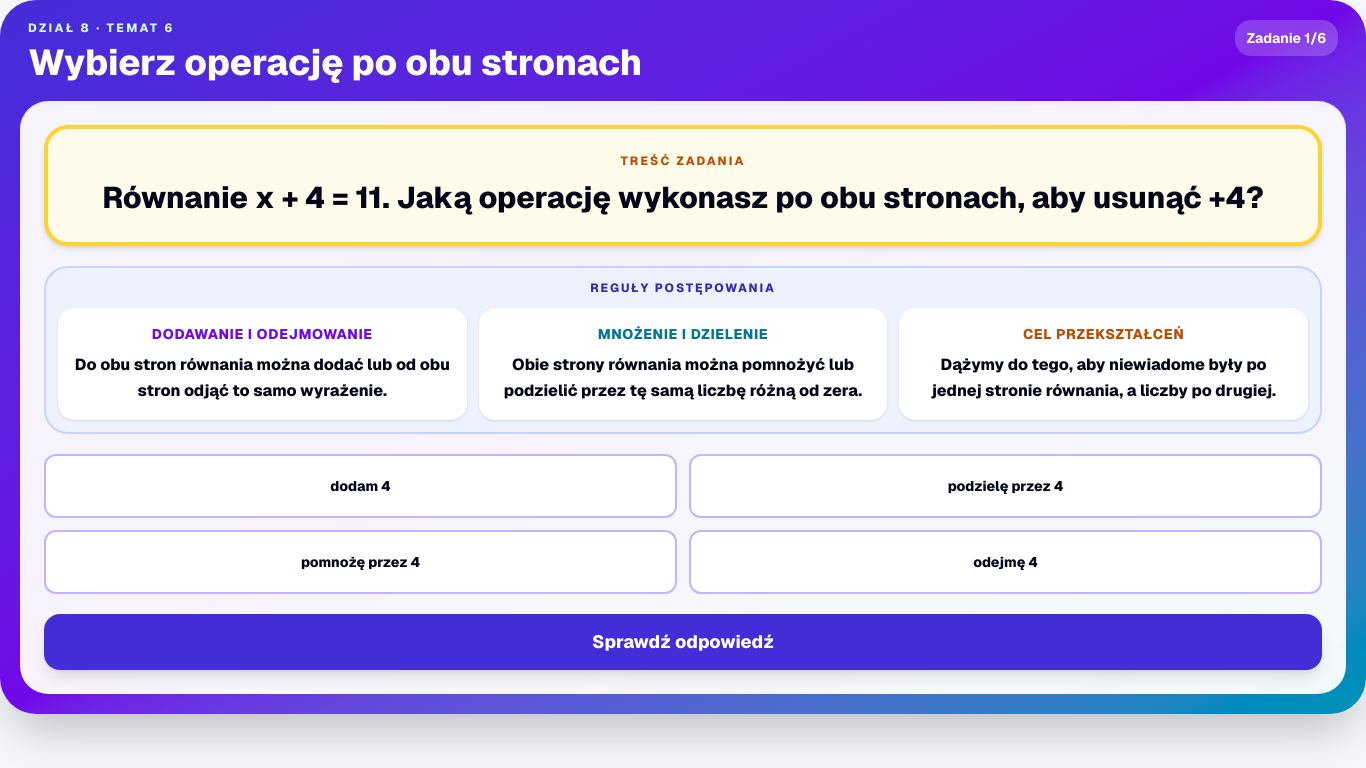
Scenario: AlgebraLessonLab › pozwala wybrać operację wykonywaną po obu stronach równania
The width and height of the screenshot is (1366, 768).
Expected: the heading "Wybierz operację po obu stronach" is shown, x1=28 y1=40 x2=642 y2=85
Expected: the text "Jaką operację wykonasz po obu stronach" is shown, x1=102 y1=178 x2=1264 y2=217
Click the button "odejmę 4".
click(1006, 562)  # box x1=689 y1=530 x2=1322 y2=594
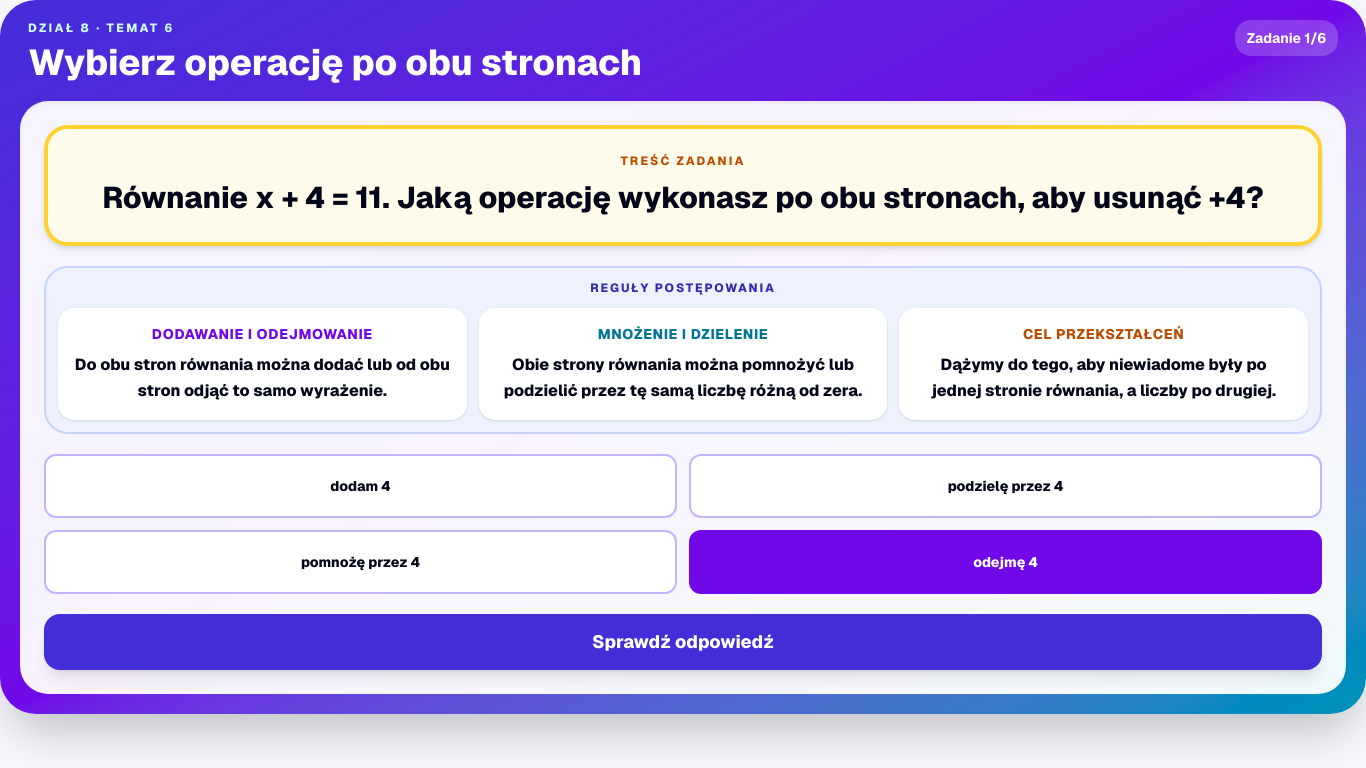
Click the button "Sprawdź odpowiedź".
click(683, 642)  # box x1=44 y1=614 x2=1322 y2=670
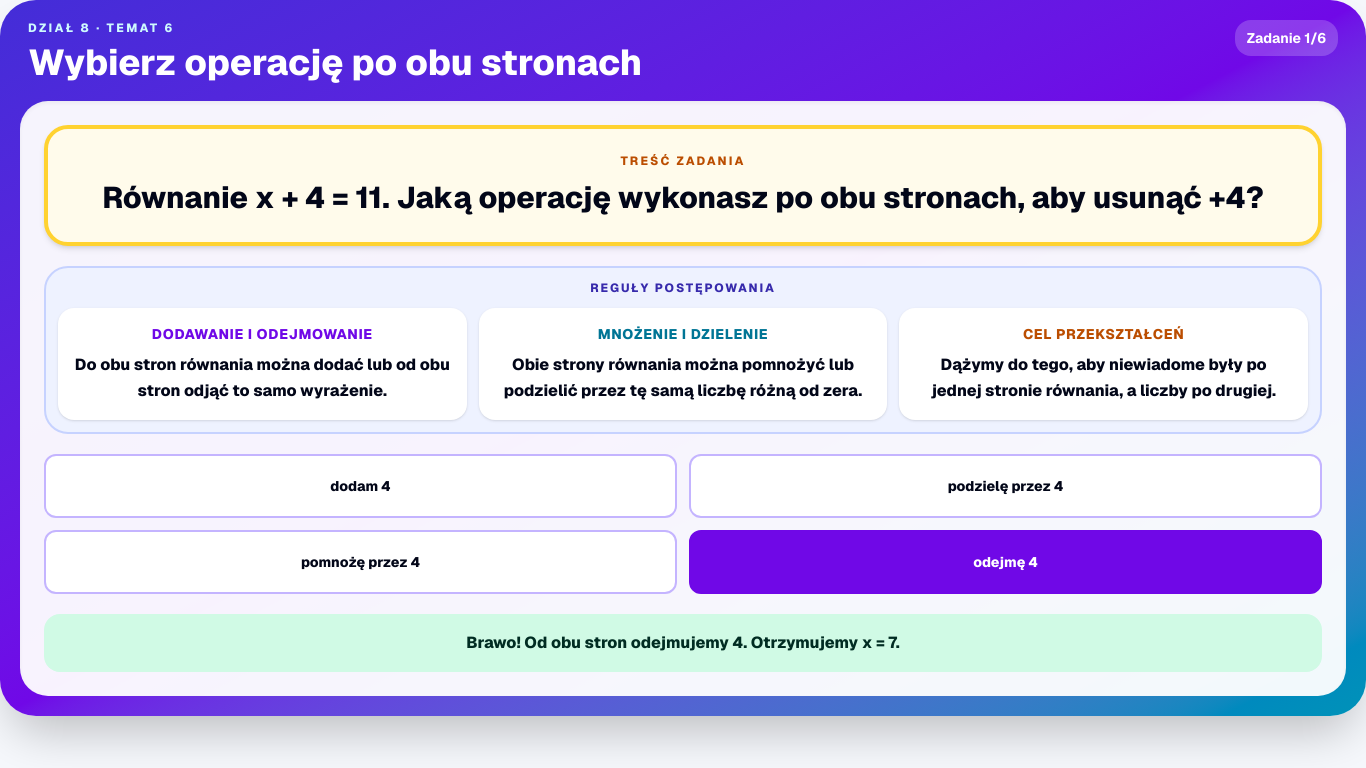
Expected: the message shows "Od obu stron odejmujemy 4", x1=466 y1=632 x2=900 y2=653
